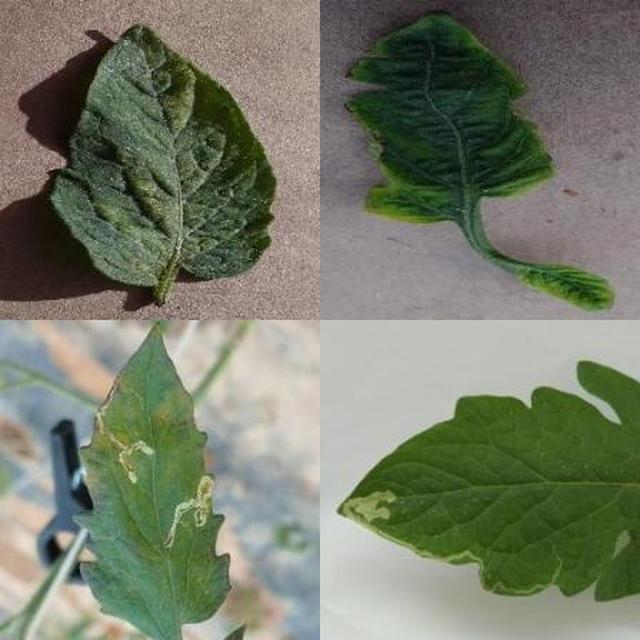Spider Mites Leaf: (139, 76, 640, 640)
